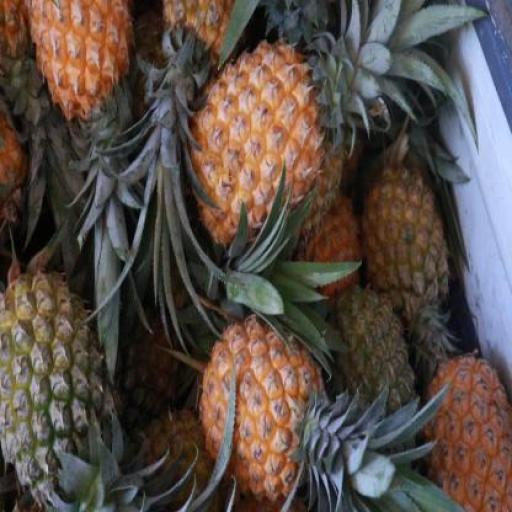------------------------------: (0, 273, 119, 496), (360, 155, 447, 327)
Pineapple - v8 v1: (188, 37, 338, 247), (200, 319, 322, 503), (424, 351, 510, 511)
